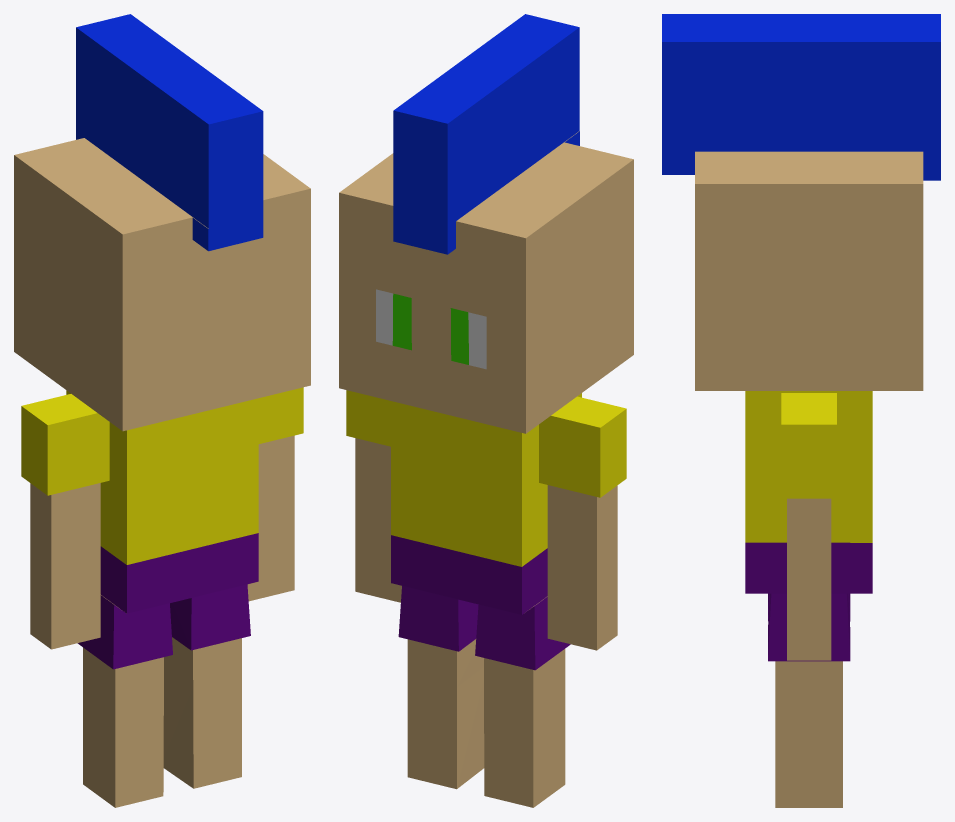
The model's file is friends2.1.fbx.
3 views of the same model, side by side, from view 1: azimuth 30°, elevation 25°; view 2: azimuth 150°, elevation 25°; view 3: azimuth 270°, elevation 25° (orthographic). The views are drawn at different scales.
Parts seen in each view (by area): view 1: friend1; view 2: friend1; view 3: friend1.
Part boxes in pixels (<box>): friend1: <box>14,14,310,807</box>; friend1: <box>339,14,633,807</box>; friend1: <box>662,14,940,807</box>.
Size of the model in its own units: 172 by 457 by 154.
